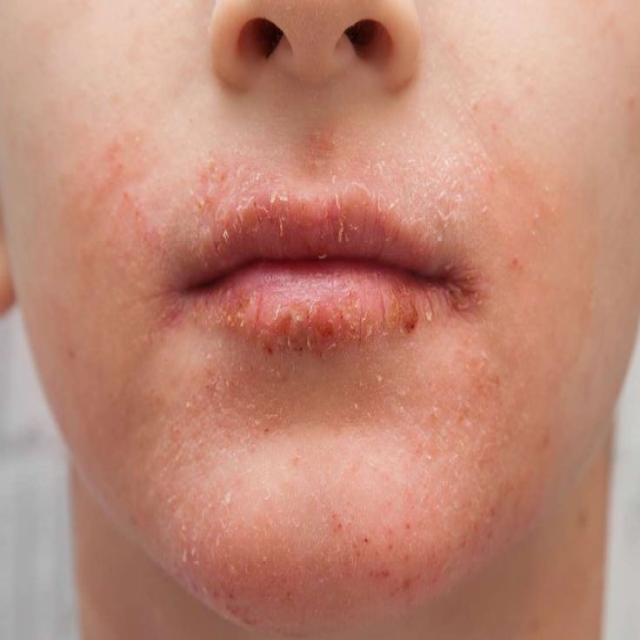Dry-Skin: (232, 195, 414, 353), (309, 478, 374, 566), (96, 166, 148, 255), (452, 462, 507, 542), (186, 505, 245, 578), (501, 186, 546, 276), (170, 381, 230, 442), (107, 383, 168, 442), (393, 524, 431, 582), (195, 184, 227, 222)
